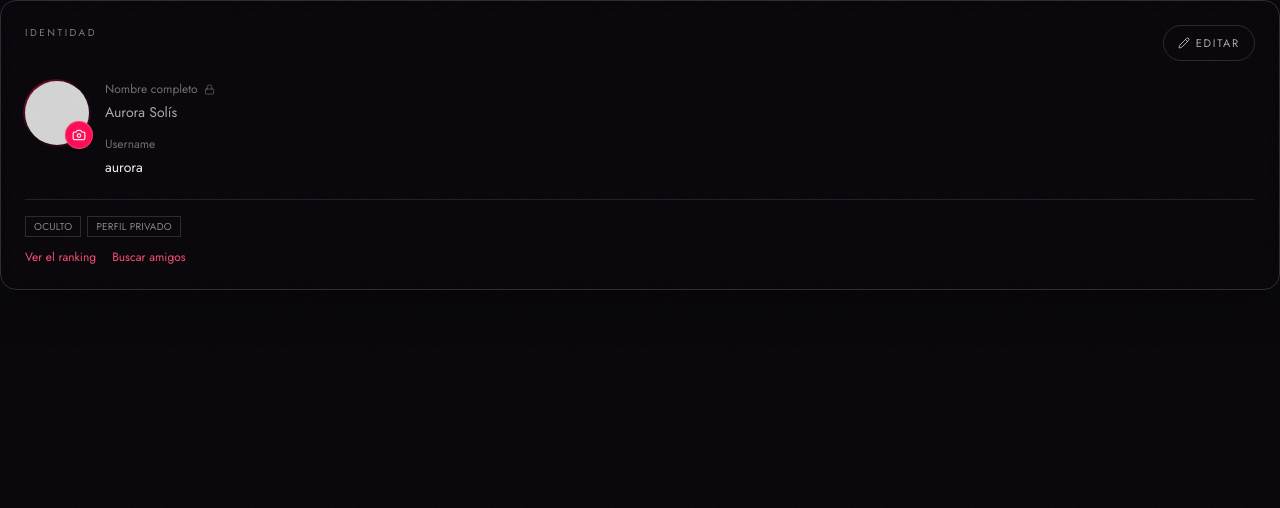
Test: IdentitySection › inline editing › saves with Enter, closes the form and confirms
Click the button with aria-label "editar username". click: click(1209, 43)
box: [1163,25,1255,61]
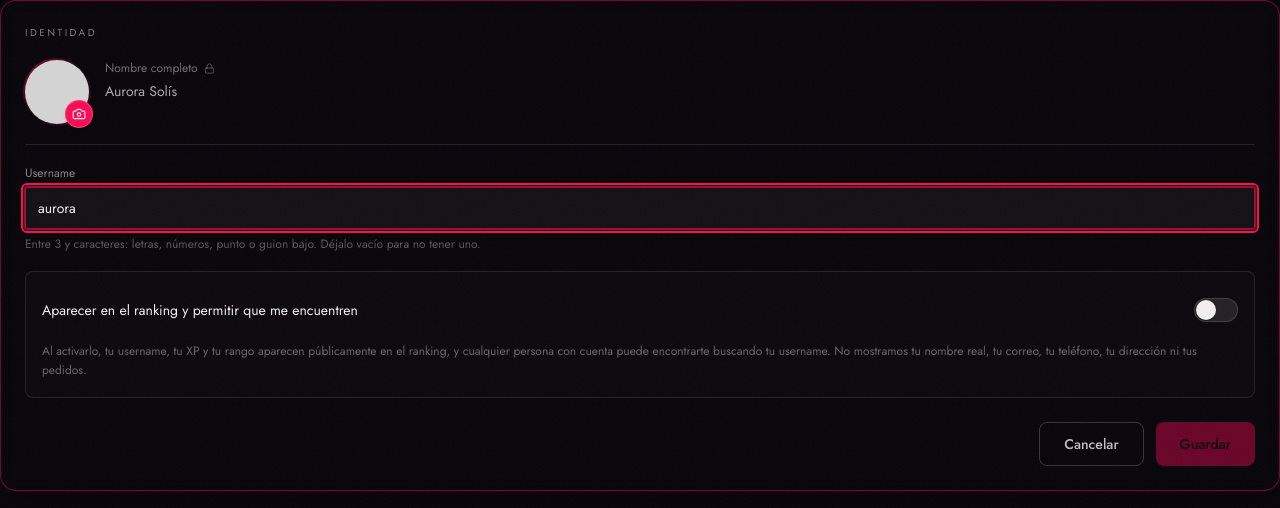
Replace the text in the field labelled "Username" with "aurora.cr". click: (640, 208)
box: [25,187,1255,229]
Then press Enter
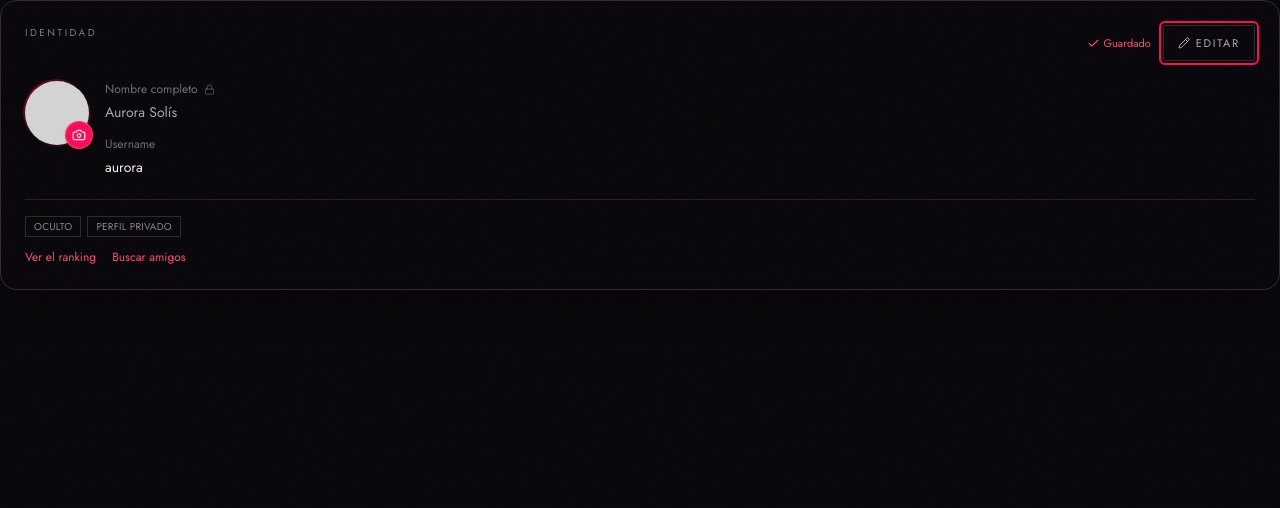
Now the text "Guardado" is shown, box [1087,35,1151,51]
